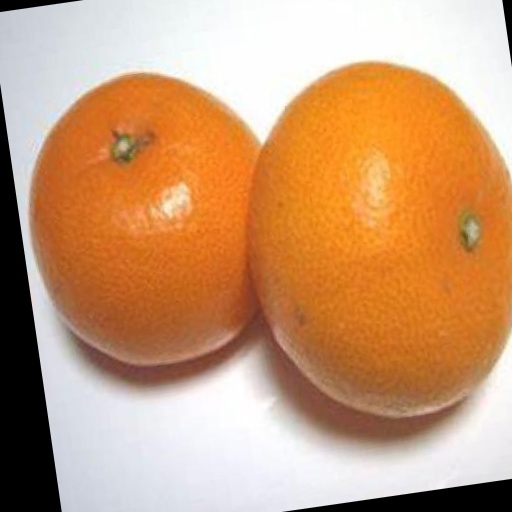fruit: (250, 63, 512, 416), (29, 74, 258, 365)
